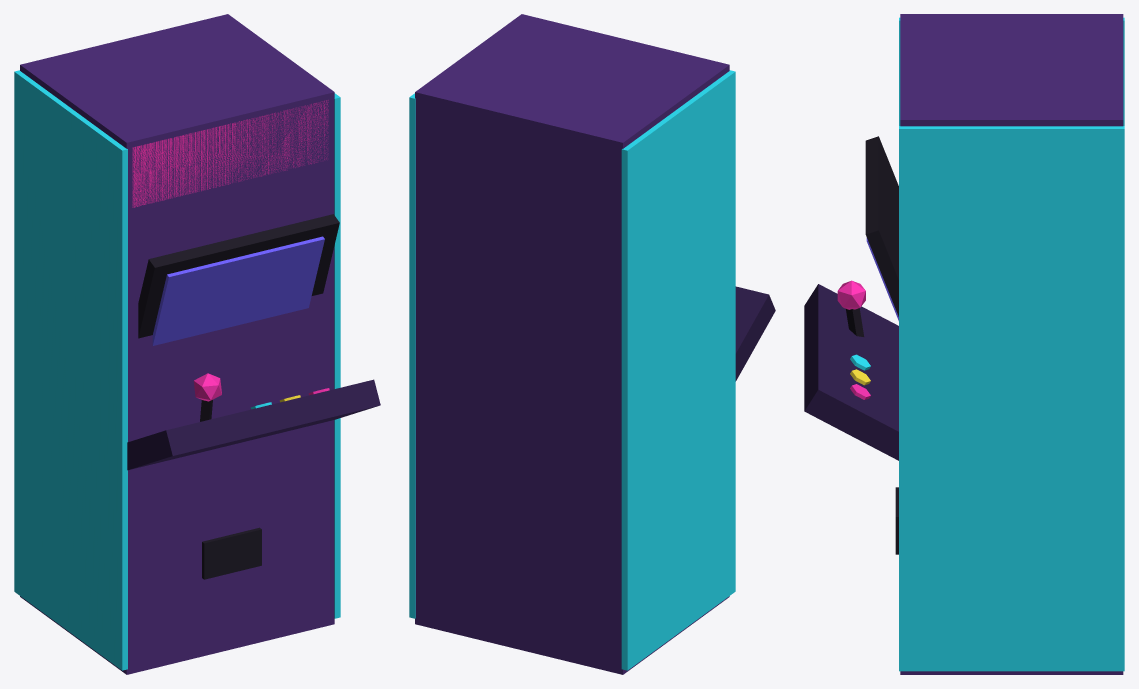
The model's file is ArcadeCabinet.fbx.
The picture shows the model from 3 angles, left to right: view 1: azimuth 30°, elevation 25°; view 2: azimuth 150°, elevation 25°; view 3: azimuth 270°, elevation 25°; orthographic projection. The views are drawn at different scales.
Visible parts, largest first — view 1: ArcadeCabinet, ArcadeCabinet_Glow; view 2: ArcadeCabinet, ArcadeCabinet_Glow; view 3: ArcadeCabinet_Glow, ArcadeCabinet.
Part boxes in pixels (x1,y1,x2,y2): ArcadeCabinet: (20,14,380,674); ArcadeCabinet_Glow: (14,70,340,670); ArcadeCabinet: (415,14,775,674); ArcadeCabinet_Glow: (409,70,735,670); ArcadeCabinet_Glow: (837,17,1124,671); ArcadeCabinet: (804,14,1123,674).
Size of the model in its own units: 189 by 440 by 230.
1 material, 1 textured.
